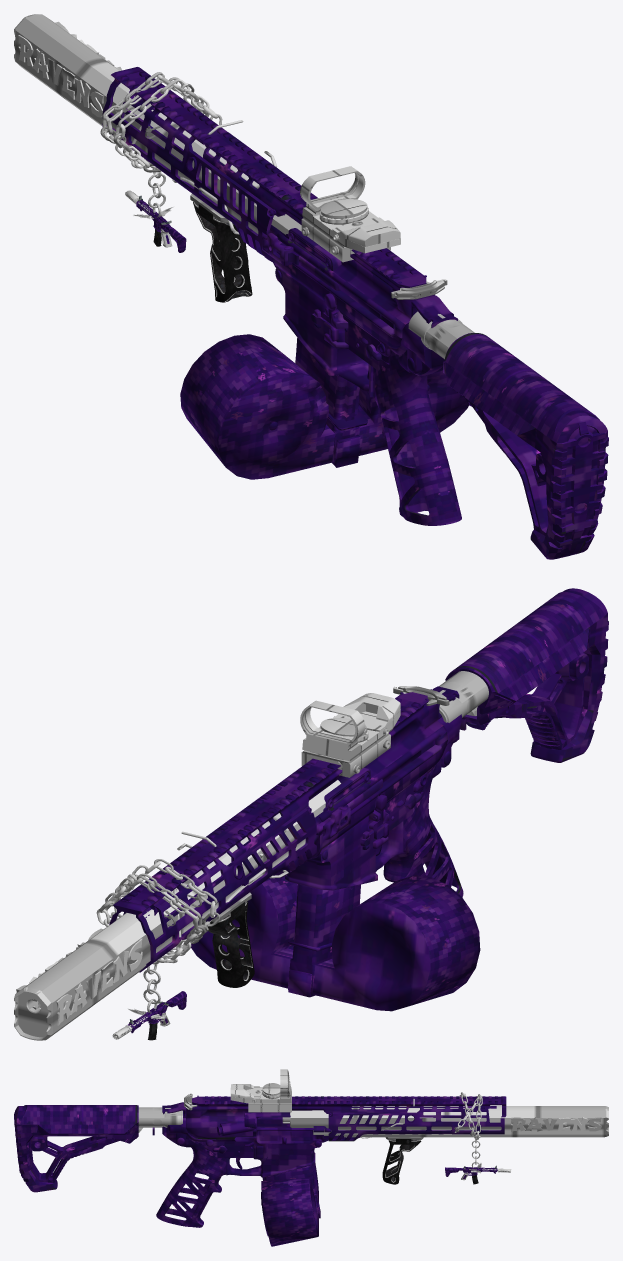
File: Raven2.fbx
3 renders of one model, top to bottom at view 1: azimuth 30°, elevation 25°; view 2: azimuth 150°, elevation 25°; view 3: azimuth 270°, elevation 25°, orthographic. The views are drawn at different scales.
Visible parts, largest first — view 1: Gun_Raven; view 2: Gun_Raven; view 3: Gun_Raven.
Part boxes in pixels (x1=…): Gun_Raven: x1=14, y1=14, x2=608, y2=559; Gun_Raven: x1=14, y1=588, x2=608, y2=1040; Gun_Raven: x1=14, y1=1069, x2=608, y2=1246.
Bounding box in the file's own units: 138 × 142 × 506.
Materials: 27 (26 with a texture image).
